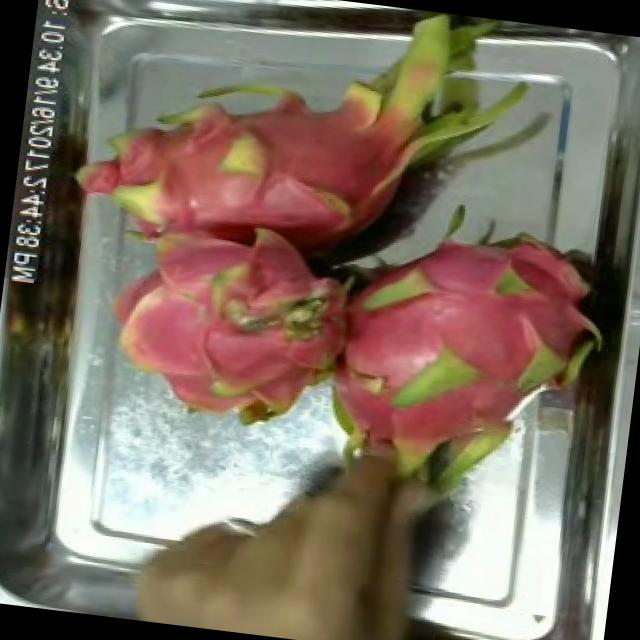Fruit: (103, 496, 320, 640)
